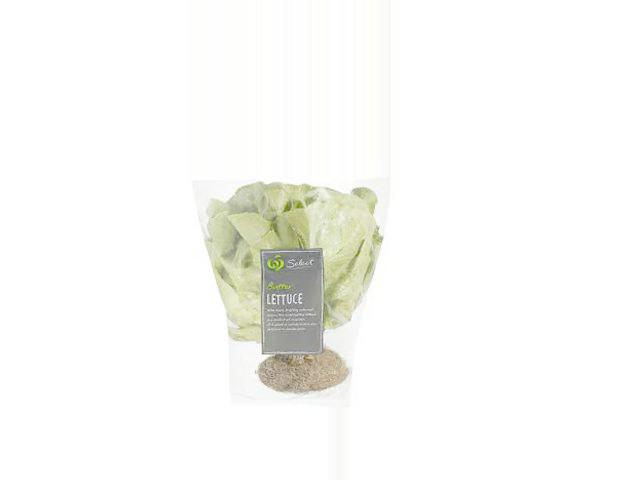lettuce: (321, 179, 471, 318)
